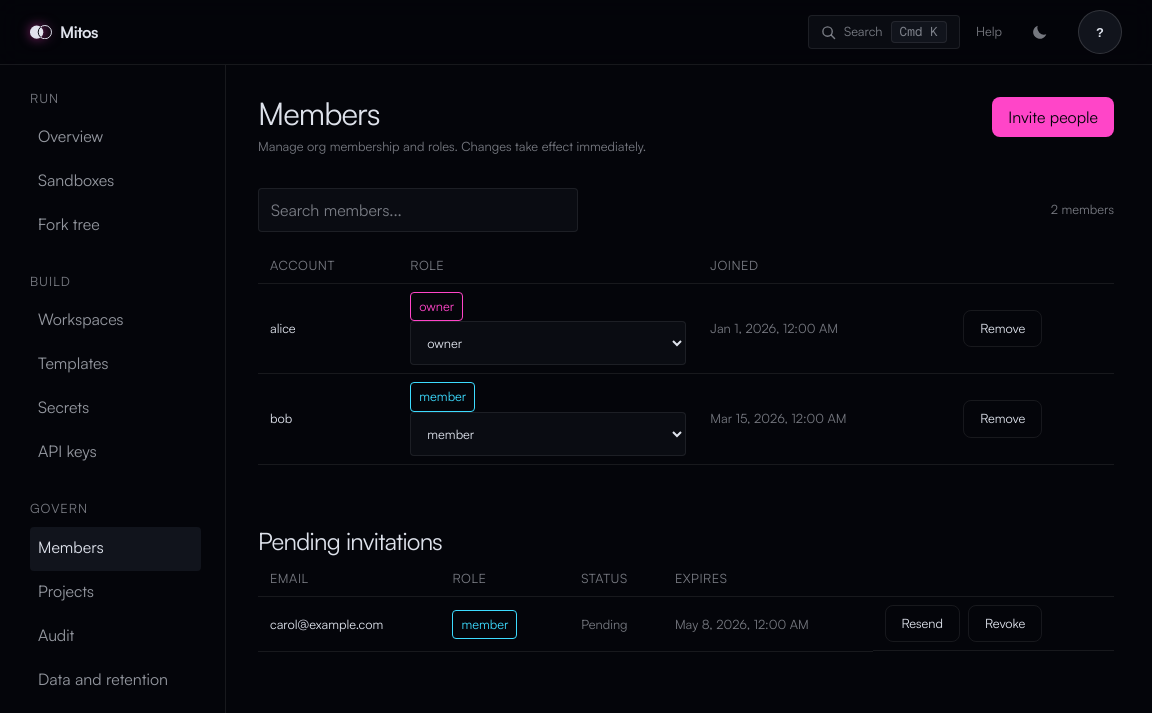
Test: Members view › removes a member after confirming, and shows a success toast
Expected: the text "bob" is shown, [270,410,292,426]
Click the button with aria-label "remove bob": (1003, 419) [963,400,1042,438]
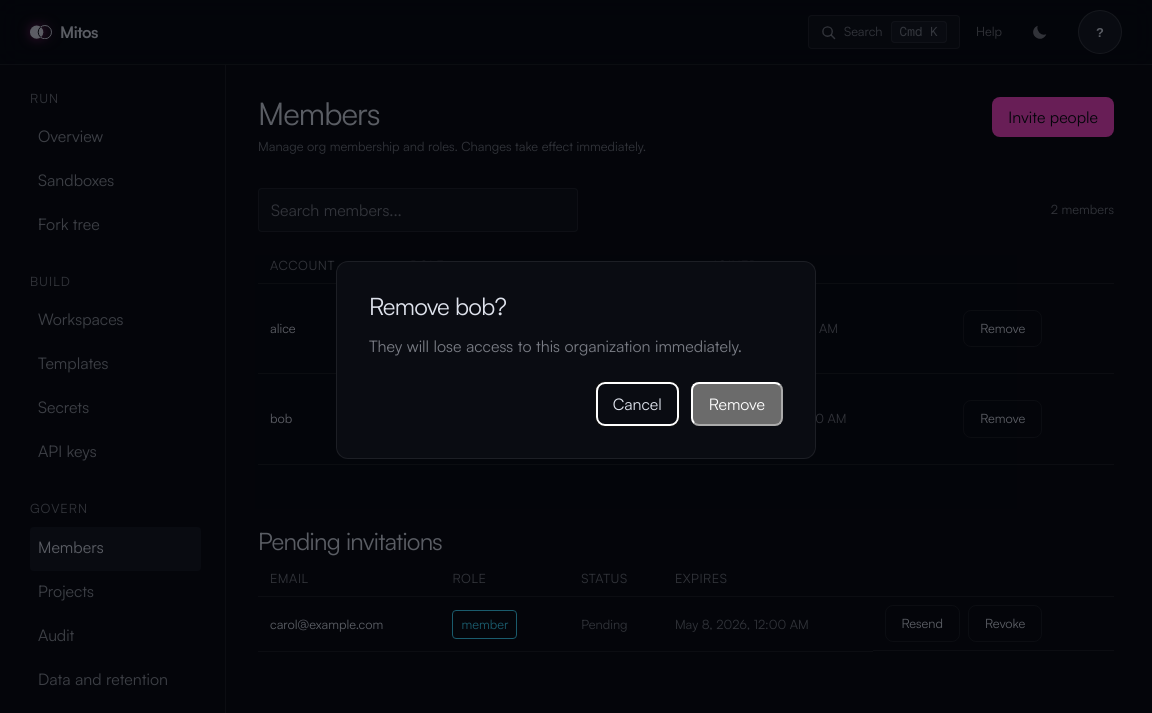
Now the dialog is shown, box [336,261,816,459]
Click the button "Remove": (737, 404) [691,382,783,426]
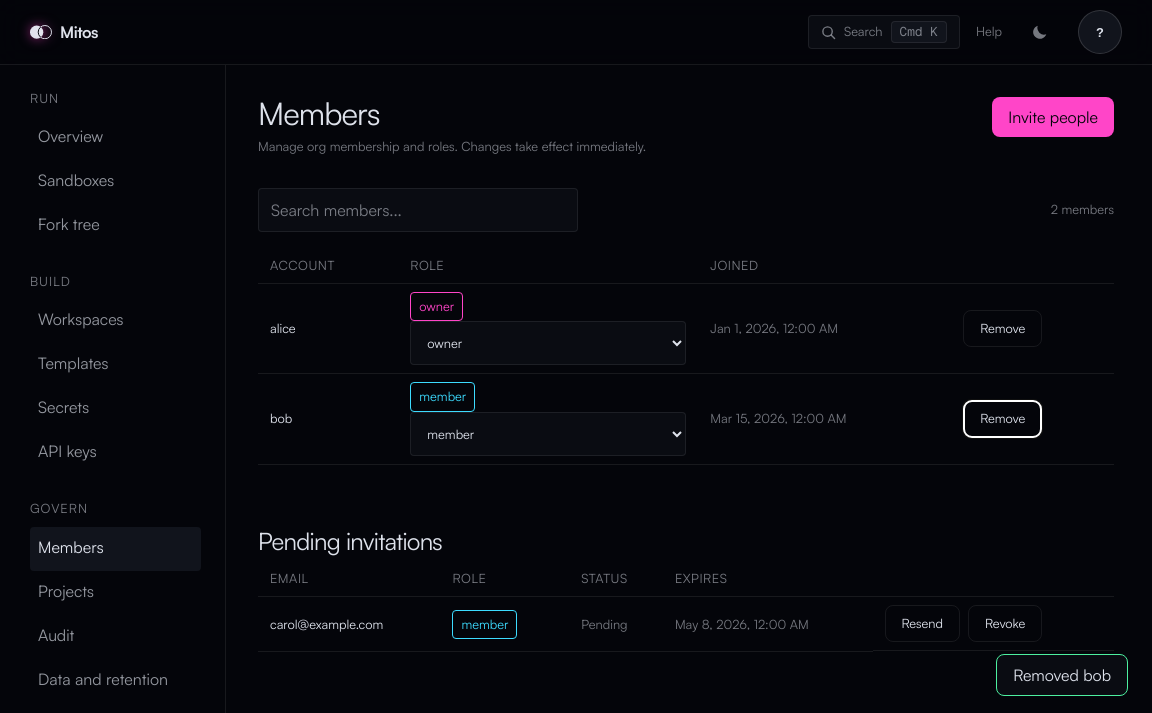
Now the message "Removed bob" is shown, box [996,654,1128,696]
